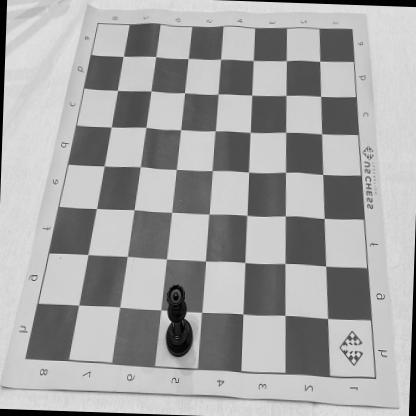black-queen: (164, 283, 195, 358)
